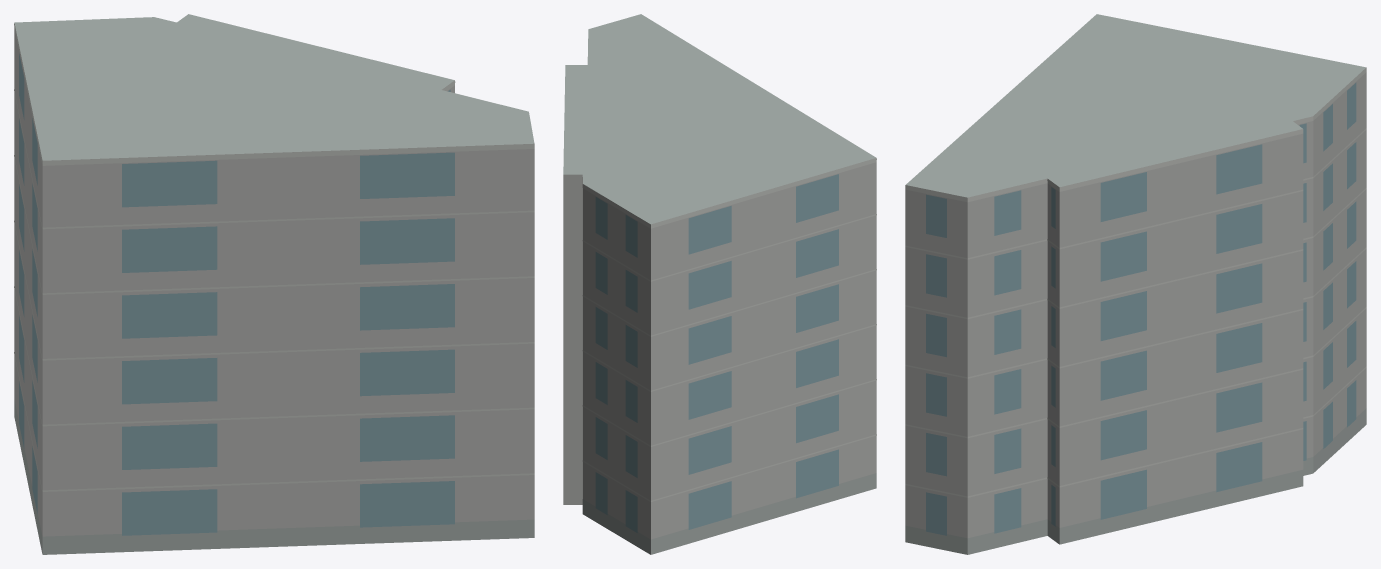
File: survey-upis-33029224.glb
3 renders of one model, left to right at view 1: azimuth 30°, elevation 25°; view 2: azimuth 150°, elevation 25°; view 3: azimuth 270°, elevation 25°, orthographic. The views are drawn at different scales.
Parts seen in each view (by area): view 1: survey-upis-33029224.tmp; view 2: survey-upis-33029224.tmp; view 3: survey-upis-33029224.tmp.
Boxes of the visible parts, x1,y1,x2,y2 form: survey-upis-33029224.tmp: (14, 14, 534, 554); survey-upis-33029224.tmp: (563, 14, 876, 554); survey-upis-33029224.tmp: (905, 14, 1366, 554).
Size of the model in its own units: 20.64 by 18.7 by 21.89.
